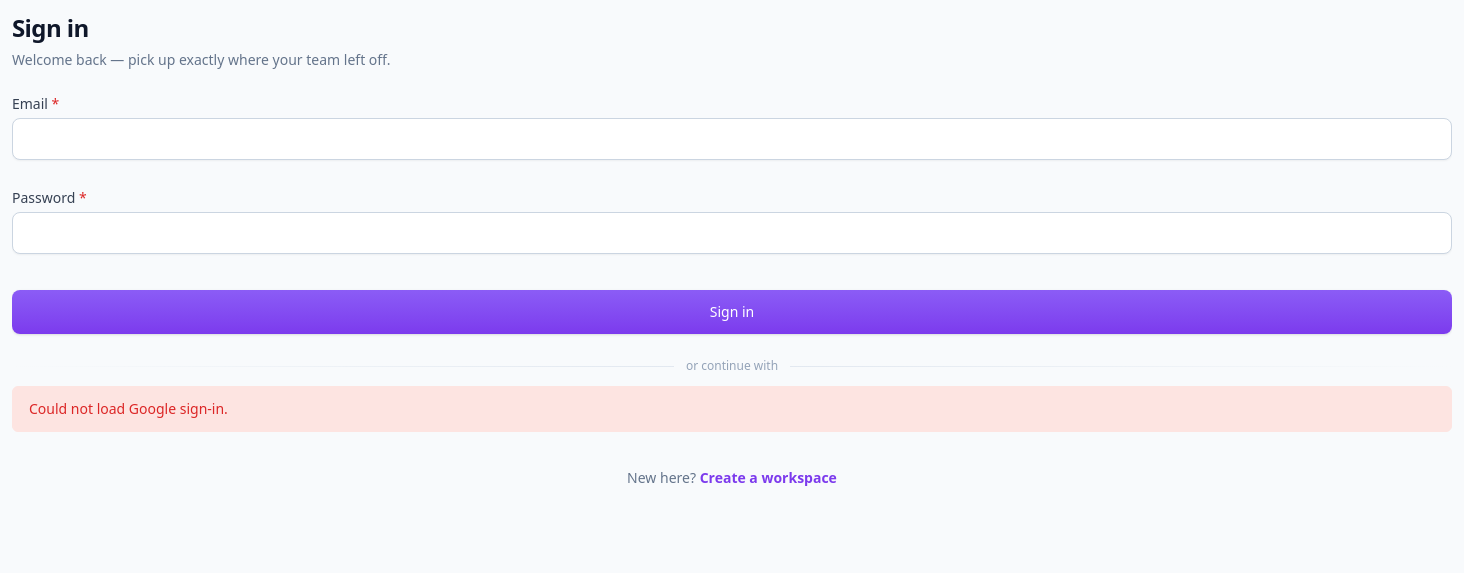
it: Login page (UC-01 — generic errors, input preserved) › shows the GENERIC message on 401 and PRESERVES input (AAD §2, EC-28)
Step 1. Type "sara@example.com" into the field labelled "Email *" → coordinates (732, 139), box top-left (12, 118), bottom-right (1452, 160)
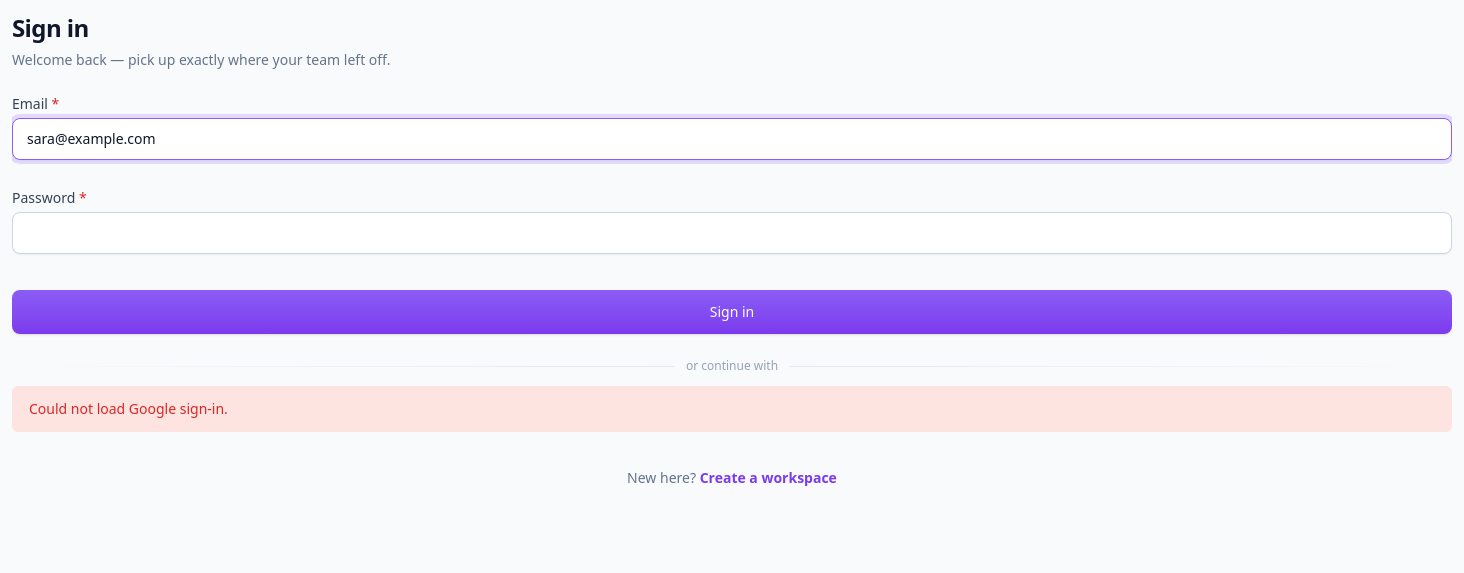
Step 2. Type "wrong-password" into the password field labelled "Password *" → coordinates (732, 233), box top-left (12, 212), bottom-right (1452, 254)
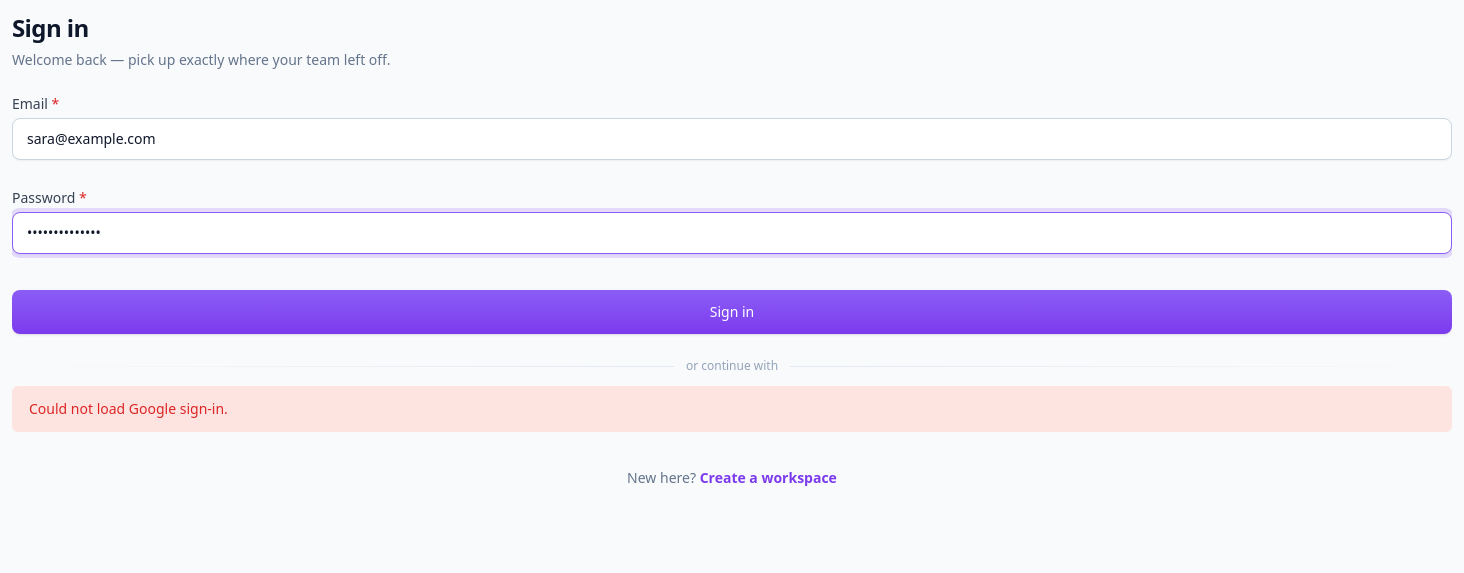
Step 3. Click the button "Sign in" → coordinates (732, 312), box top-left (12, 290), bottom-right (1452, 334)
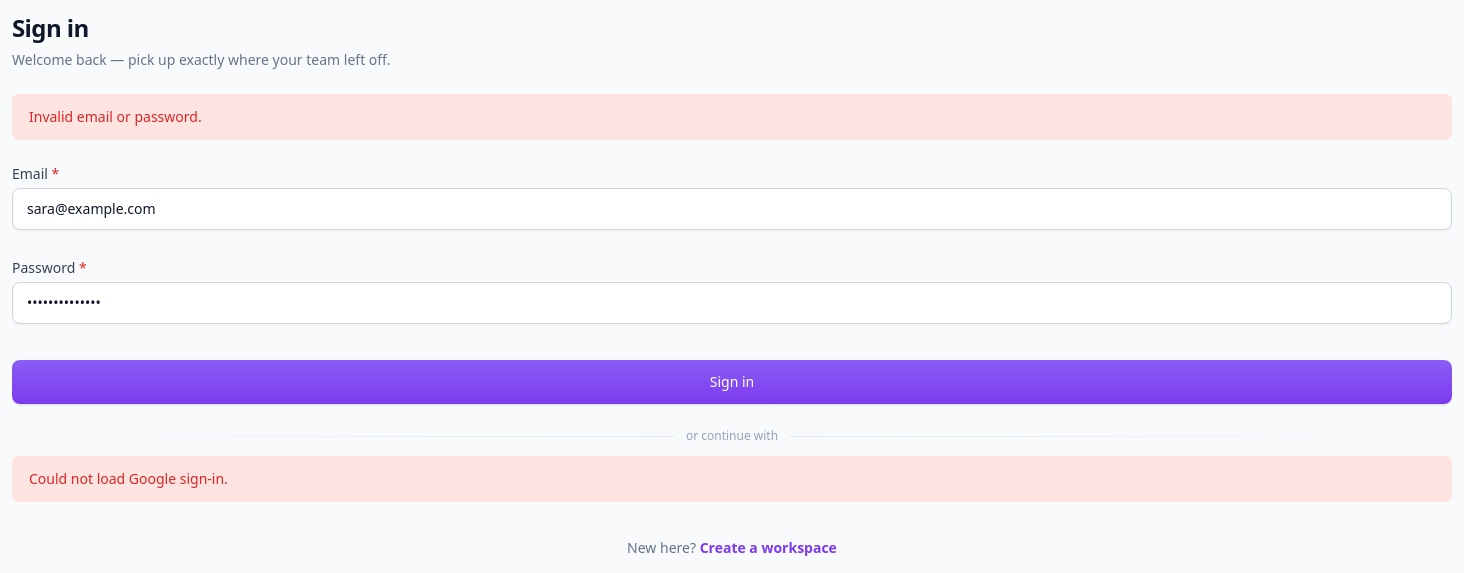
Expected: the text "Invalid email or password." is shown, top-left (29, 107), bottom-right (202, 127)
